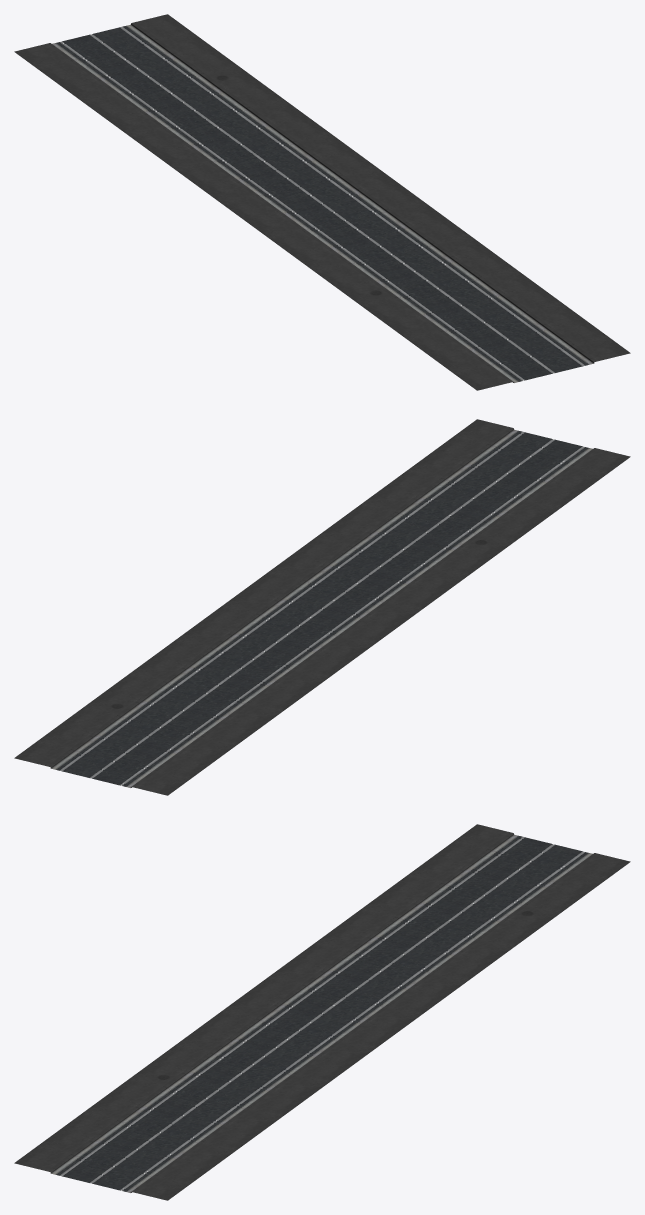
Rendered from city_road_cont_marking.fbx.
3 renders of one model, top to bottom at view 1: azimuth 30°, elevation 25°; view 2: azimuth 150°, elevation 25°; view 3: azimuth 330°, elevation 25°, orthographic.
Visible parts, largest first — view 1: obj0; view 2: obj0; view 3: obj0.
Boxes of the visible parts, x1=… form: obj0: x1=14, y1=14, x2=630, y2=390; obj0: x1=14, y1=419, x2=630, y2=795; obj0: x1=14, y1=824, x2=630, y2=1200.
Size of the model in its own units: 29.21 by 0.254 by 152.
